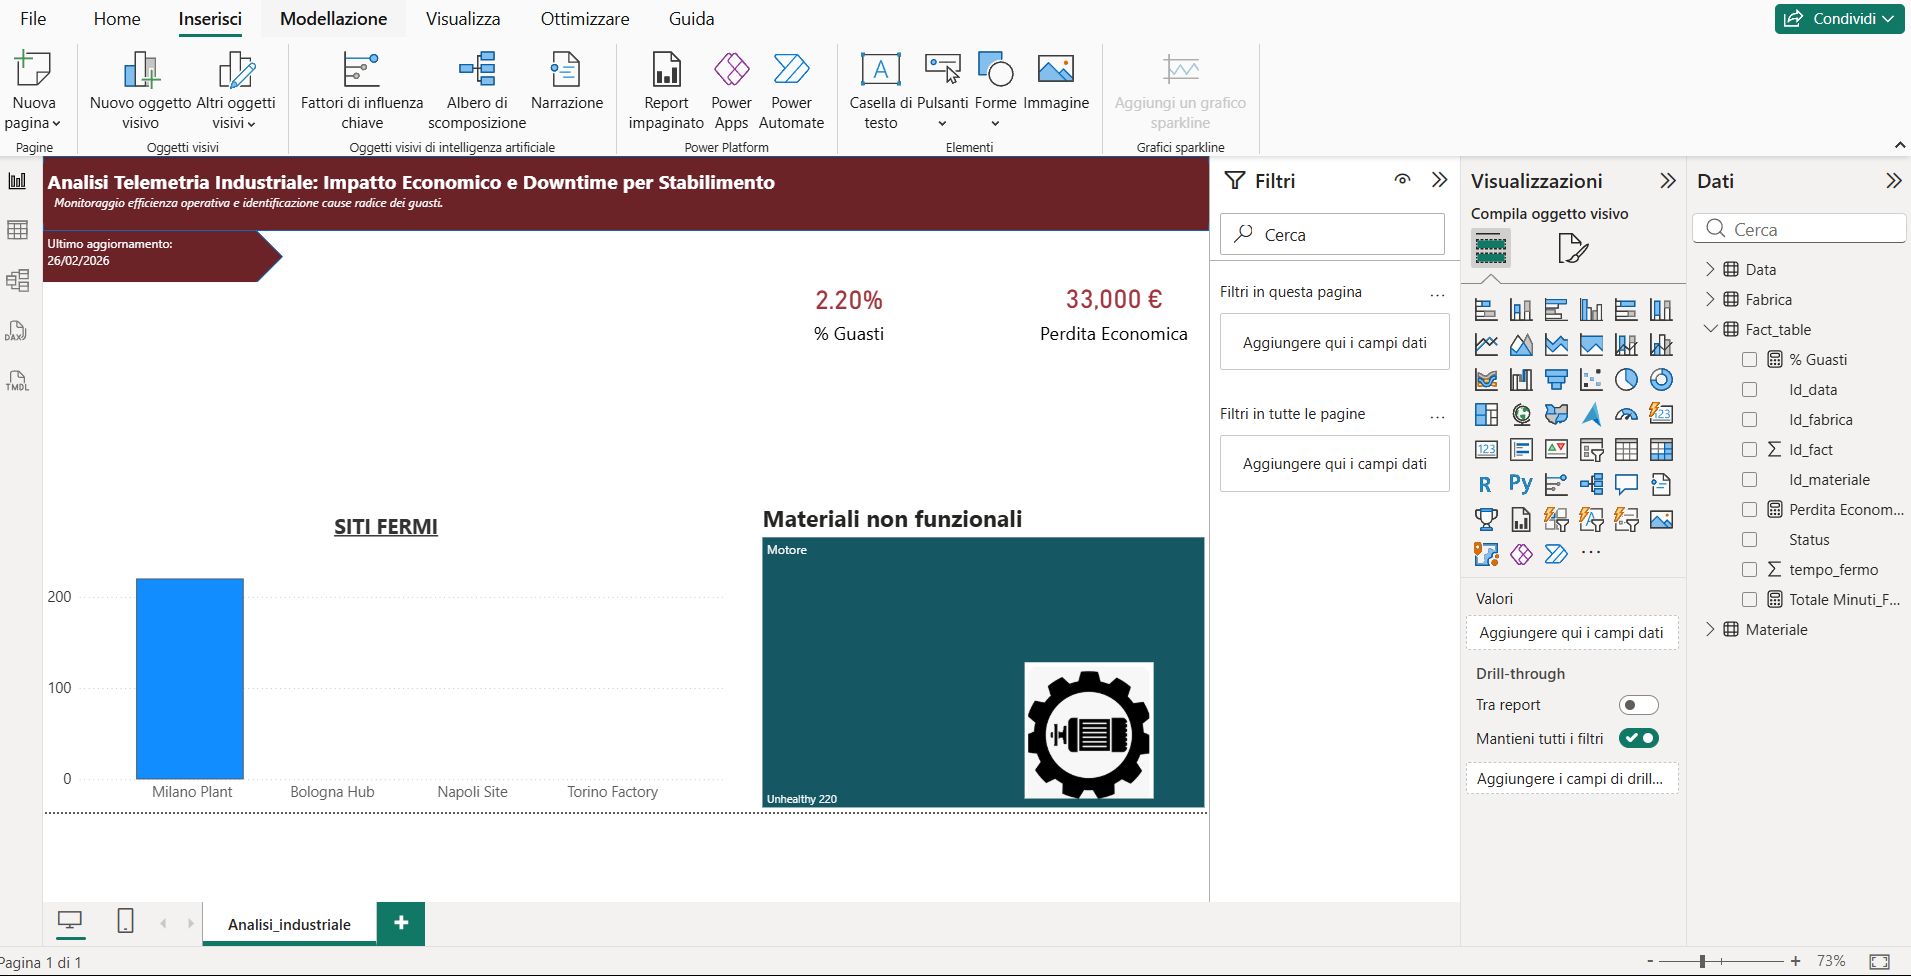

This screenshot's page, from the dashboard's own definition file:
{"tool":"powerbi","page":{"name":"Analisi_industriale","canvas":[1280,720],"ordinal":0},"visuals":[{"type":"card","fields":{"Values":["Fact_table.Perdita Economica"]},"box":[1071.7,82.3,208.6,172.9],"z":0},{"type":"columnChart","title":"SITI FERMI","fields":{"Category":["Fabrica.Nome"],"Y":["Fact_table.Totale Minuti_Fermo"]},"box":[0,389.7,753.3,330.7],"z":1000},{"type":"shape","box":[0,0,1280.3,82.3],"z":2000},{"type":"shape","box":[0,82.3,263.5,56.3],"z":3000},{"type":"textbox","box":[0,8.2,1280.3,65.9],"z":4000},{"type":"textbox","box":[0,82.3,233.3,56.3],"z":5000},{"type":"treemap","title":"Materiali non funzionali","fields":{"Group":["Materiale.nome"],"Values":["Fact_table.Totale Minuti_Fermo"],"Details":["Fact_table.Status"]},"box":[784.9,380.1,495.4,340.3],"z":6001},{"type":"image","box":[1016.8,555.7,263.5,149.6],"z":6002},{"type":"card","fields":{"Values":["Fact_table.% Guasti"]},"box":[753.3,94.7,263.5,149.6],"z":6003}]}

Visuals, with their boxes on the page's 1280x720 design canvas (x1, y1, x2, y2). These are canvas units, not pixel positions in the 1911x976 screenshot, which may show the page scaled, cropped or inside an application window:
card - Fact_table.Perdita Economica: [left=1072, top=82, right=1280, bottom=255]
"SITI FERMI" columnChart: [left=0, top=390, right=753, bottom=720]
shape: [left=0, top=0, right=1280, bottom=82]
shape: [left=0, top=82, right=264, bottom=139]
textbox: [left=0, top=8, right=1280, bottom=74]
textbox: [left=0, top=82, right=233, bottom=139]
"Materiali non funzionali" treemap: [left=785, top=380, right=1280, bottom=720]
image: [left=1017, top=556, right=1280, bottom=705]
card - Fact_table.% Guasti: [left=753, top=95, right=1017, bottom=244]
